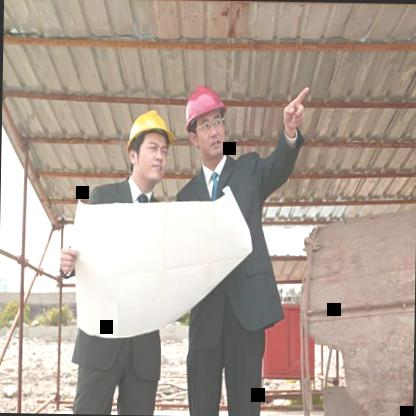helmet: (120, 98, 178, 196), (174, 75, 233, 164)
